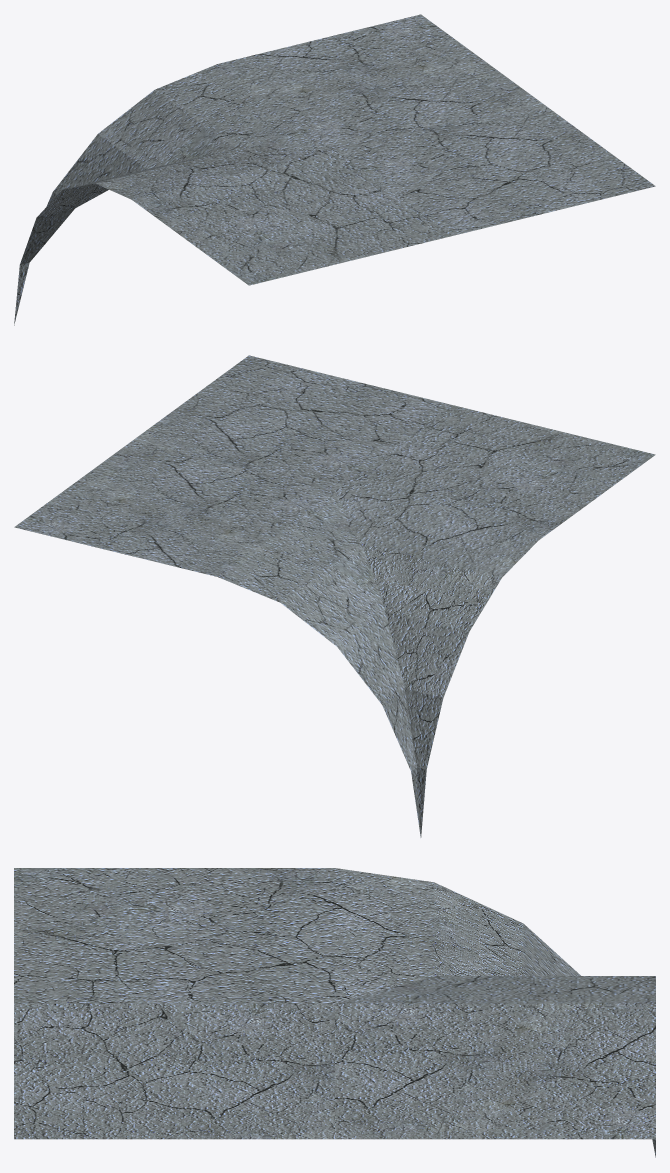
The model's file is ceiling_06.fbx.
3 renders of one model, top to bottom at view 1: azimuth 30°, elevation 25°; view 2: azimuth 150°, elevation 25°; view 3: azimuth 270°, elevation 25°, orthographic. The views are drawn at different scales.
Parts seen in each view (by area): view 1: ceiling_06; view 2: ceiling_06; view 3: ceiling_06.
Boxes of the visible parts, box(x1,y1,x2,y2) form: ceiling_06: box(14, 14, 655, 325); ceiling_06: box(14, 355, 655, 837); ceiling_06: box(14, 868, 655, 1157).
Size of the model in its own units: 100 by 50 by 100.
